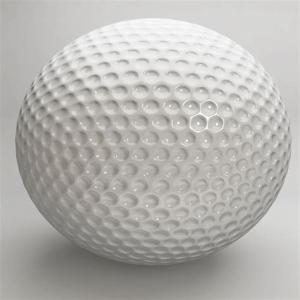Golf: (15, 16, 293, 266)
